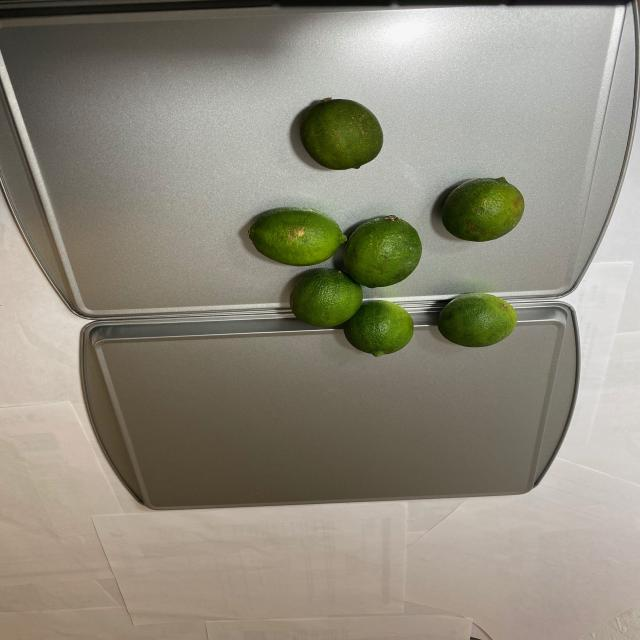lemon: (243, 90, 528, 358)
